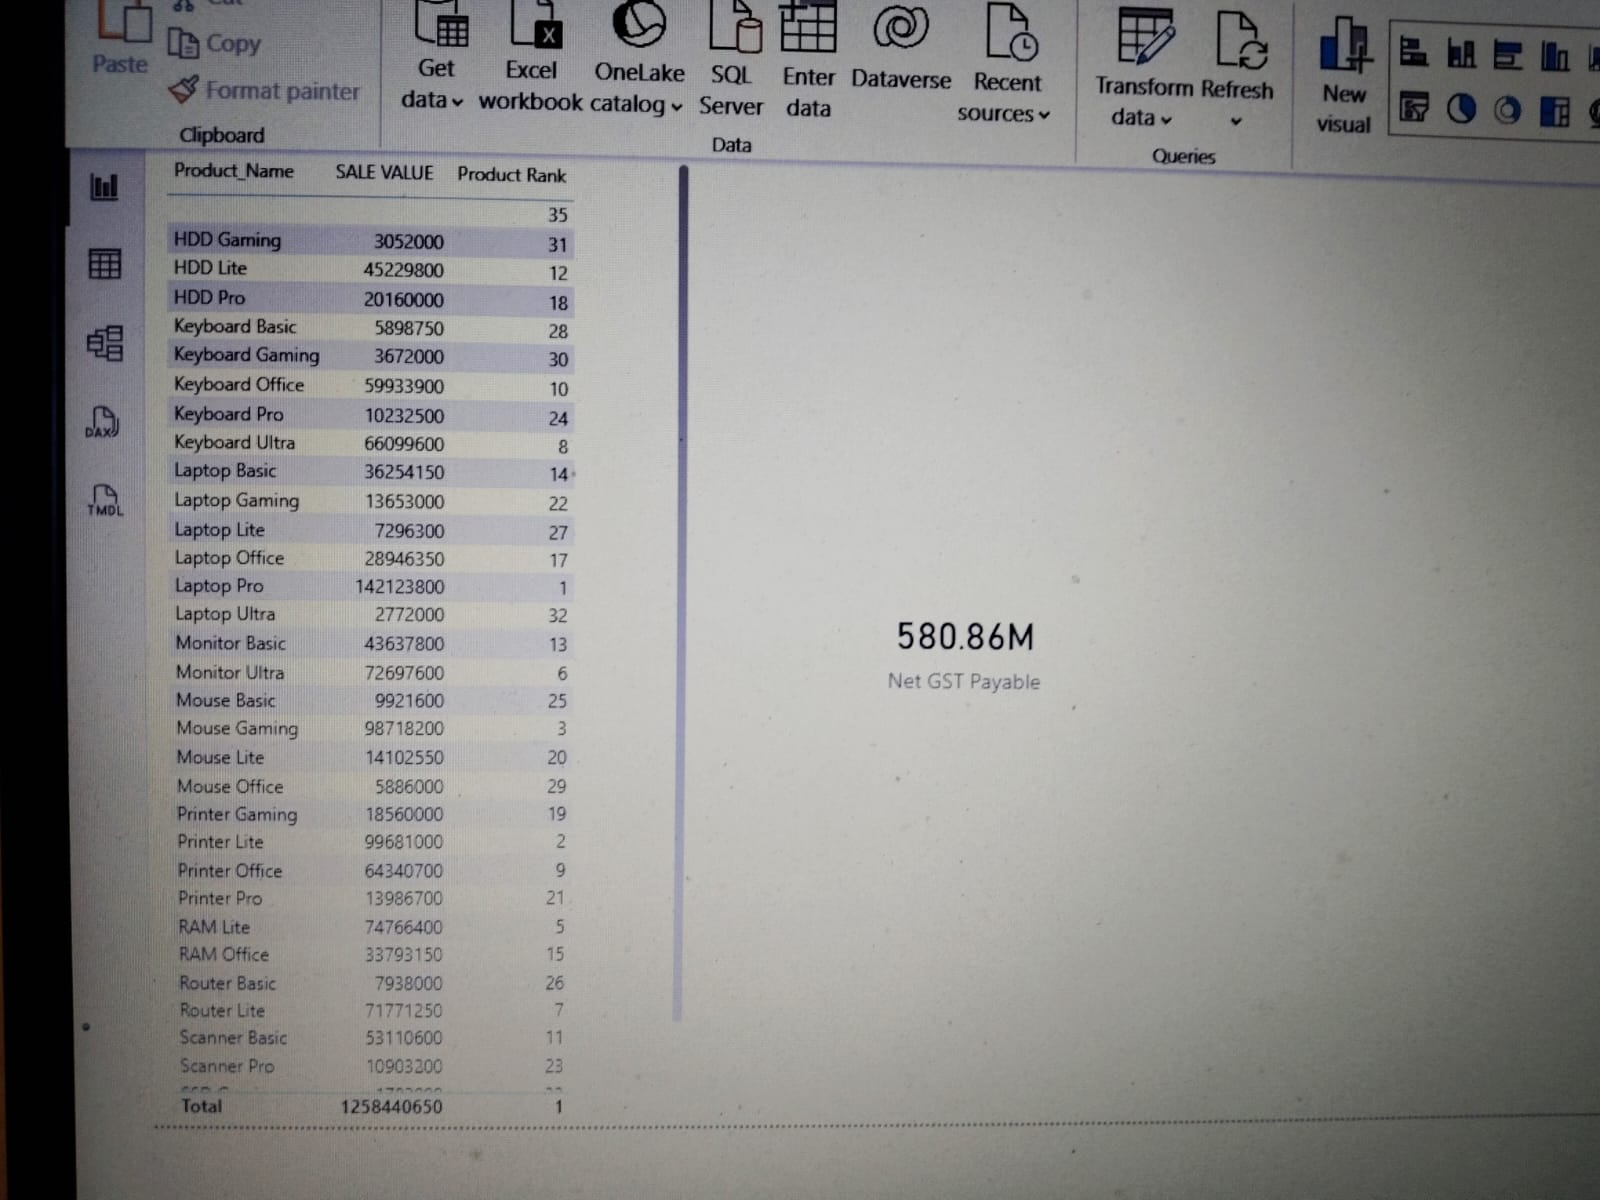

The dashboard page shown, as its layout file describes it:
{"tool":"powerbi","page":{"name":"Page 1","canvas":[1280,720],"ordinal":5},"visuals":[{"type":"tableEx","fields":{"Values":["Product Master.Product_Name","Sales Register.SALE VALUE","Sales Register.Product Rank"]},"box":[10,0,389.7,719.6],"z":0},{"type":"card","fields":{"Values":["Product Master.Net GST Payable"]},"box":[410,0,390,720],"z":1}]}

Visuals, with their boxes on the page's 1280x720 design canvas (x1, y1, x2, y2). These are canvas units, not pixel positions in the 1600x1200 screenshot, which may show the page scaled, cropped or inside an application window:
tableEx - Product Master.Product_Name x Sales Register.SALE VALUE: left=10, top=0, right=400, bottom=720
card - Product Master.Net GST Payable: left=410, top=0, right=800, bottom=720
